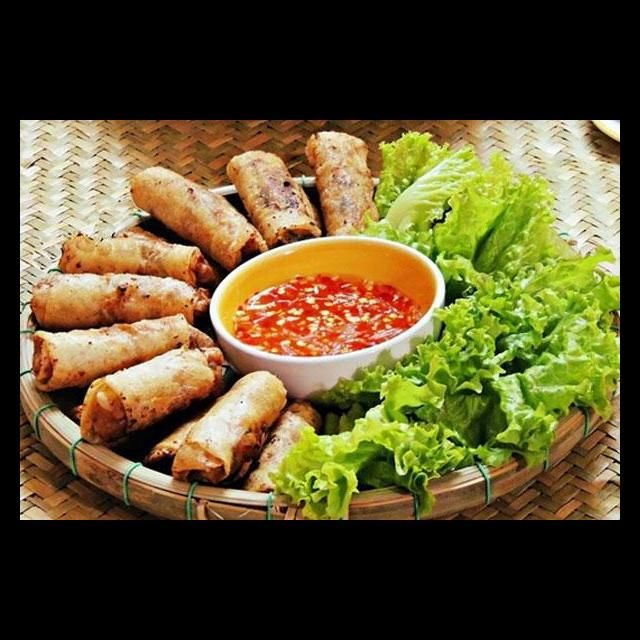cha gio: (142, 365, 293, 489), (69, 340, 233, 449), (28, 308, 222, 396), (125, 161, 272, 273), (26, 266, 213, 331), (54, 223, 226, 293), (221, 147, 325, 251), (301, 127, 383, 244), (239, 394, 327, 501)
